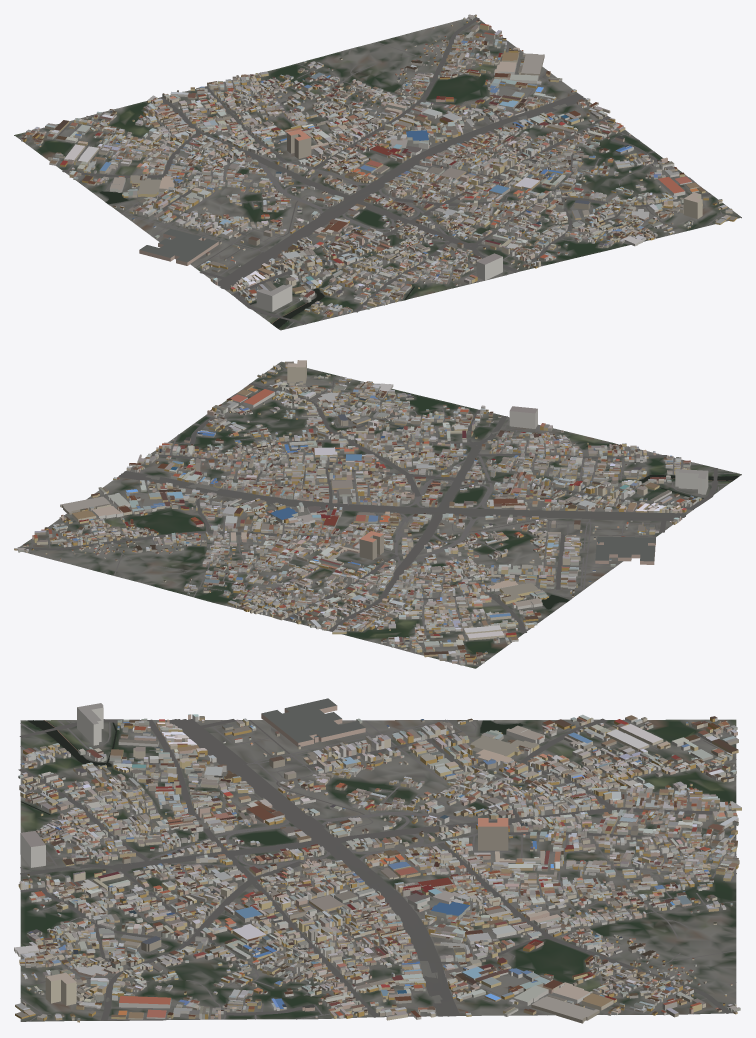
3 views of the same model, one above another, from view 1: azimuth 30°, elevation 25°; view 2: azimuth 150°, elevation 25°; view 3: azimuth 270°, elevation 25° (orthographic). The views are drawn at different scales.
Visible parts, largest first — view 1: buildings, ground, roads, water; view 2: buildings, ground, roads; view 3: buildings, ground, roads, water.
Part boxes in pixels (x1,y1,x2,y2): buildings: [21, 14, 737, 317]; ground: [14, 17, 741, 330]; roads: [18, 17, 738, 329]; water: [100, 191, 414, 328]; buildings: [14, 360, 708, 665]; ground: [17, 361, 741, 668]; roads: [17, 363, 736, 665]; buildings: [14, 698, 741, 1023]; ground: [20, 719, 736, 1021]; roads: [18, 718, 736, 1021]; water: [20, 720, 522, 814].
Size of the model in its own units: 1517 by 58.82 by 1425.
